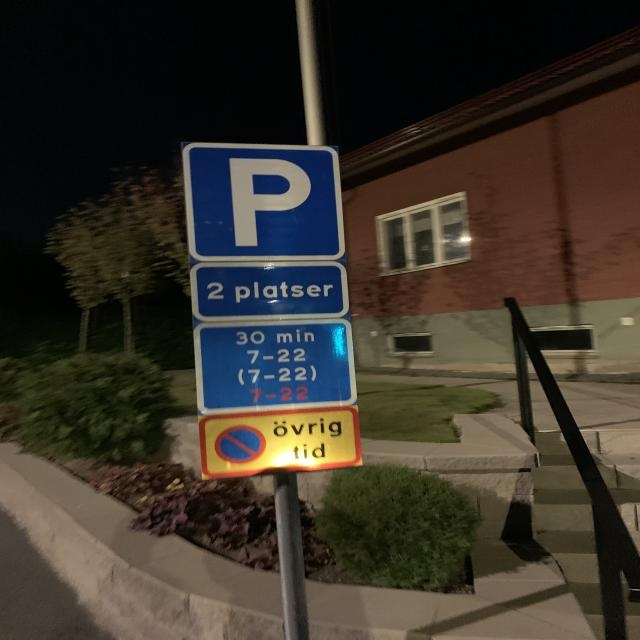P-skylt: (179, 138, 346, 261)
